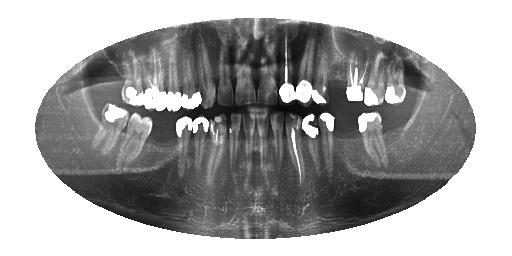i10decay: (231, 111, 244, 179)
i11decay: (209, 112, 231, 174)
i12healthy: (193, 109, 213, 174)
i13healthy: (175, 113, 195, 172)
i14loss: (150, 120, 175, 173)
i15healthy: (116, 110, 154, 173)
i16healthy: (94, 105, 127, 161)
i1loss: (392, 110, 412, 172)
i2healthy: (356, 110, 392, 177)
i3loss: (338, 113, 359, 188)
i4healthy: (319, 113, 339, 183)
i5healthy: (304, 108, 323, 178)
i6healthy: (284, 112, 304, 188)
i7decay: (271, 109, 287, 186)
i8decay: (256, 108, 270, 181)
i9decay: (242, 108, 254, 181)
u10decay: (217, 53, 236, 107)
u11decay: (202, 53, 219, 107)
u12healthy: (183, 54, 202, 111)
u13healthy: (165, 55, 183, 111)
u14healthy: (145, 53, 165, 109)
u15healthy: (123, 56, 143, 107)
u16loss: (107, 60, 123, 103)
u1healthy: (384, 55, 409, 104)
u2healthy: (363, 59, 387, 104)
u3healthy: (344, 60, 365, 113)
u4loss: (329, 55, 349, 103)
u5healthy: (311, 50, 332, 106)
u6healthy: (298, 49, 313, 106)
u7loss: (278, 52, 297, 104)
u8decay: (259, 51, 280, 105)
u9decay: (237, 52, 257, 107)
